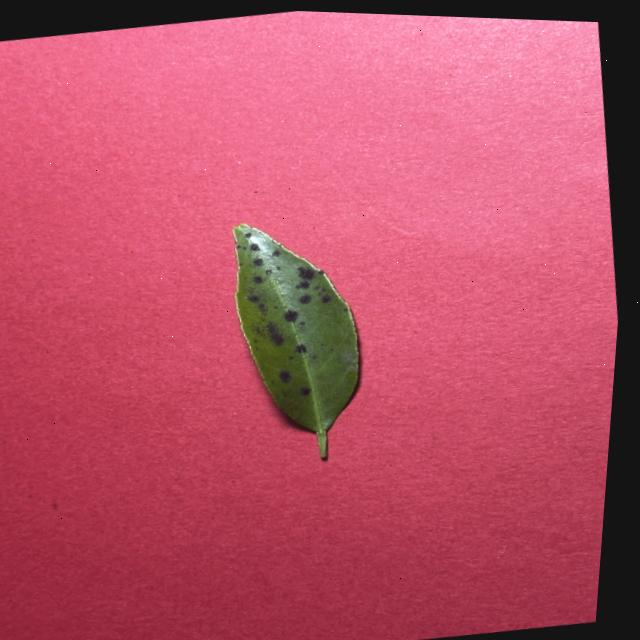sooty_mold: (234, 224, 358, 456)
